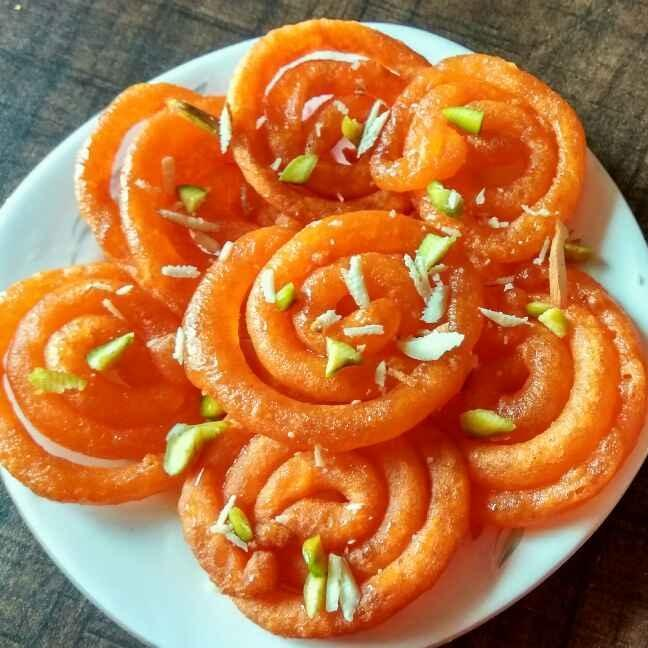jalebi: (2, 34, 648, 625)
